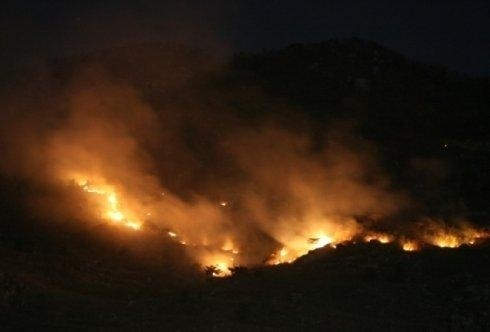fire: (71, 172, 144, 229), (268, 228, 341, 266), (207, 237, 238, 278)
